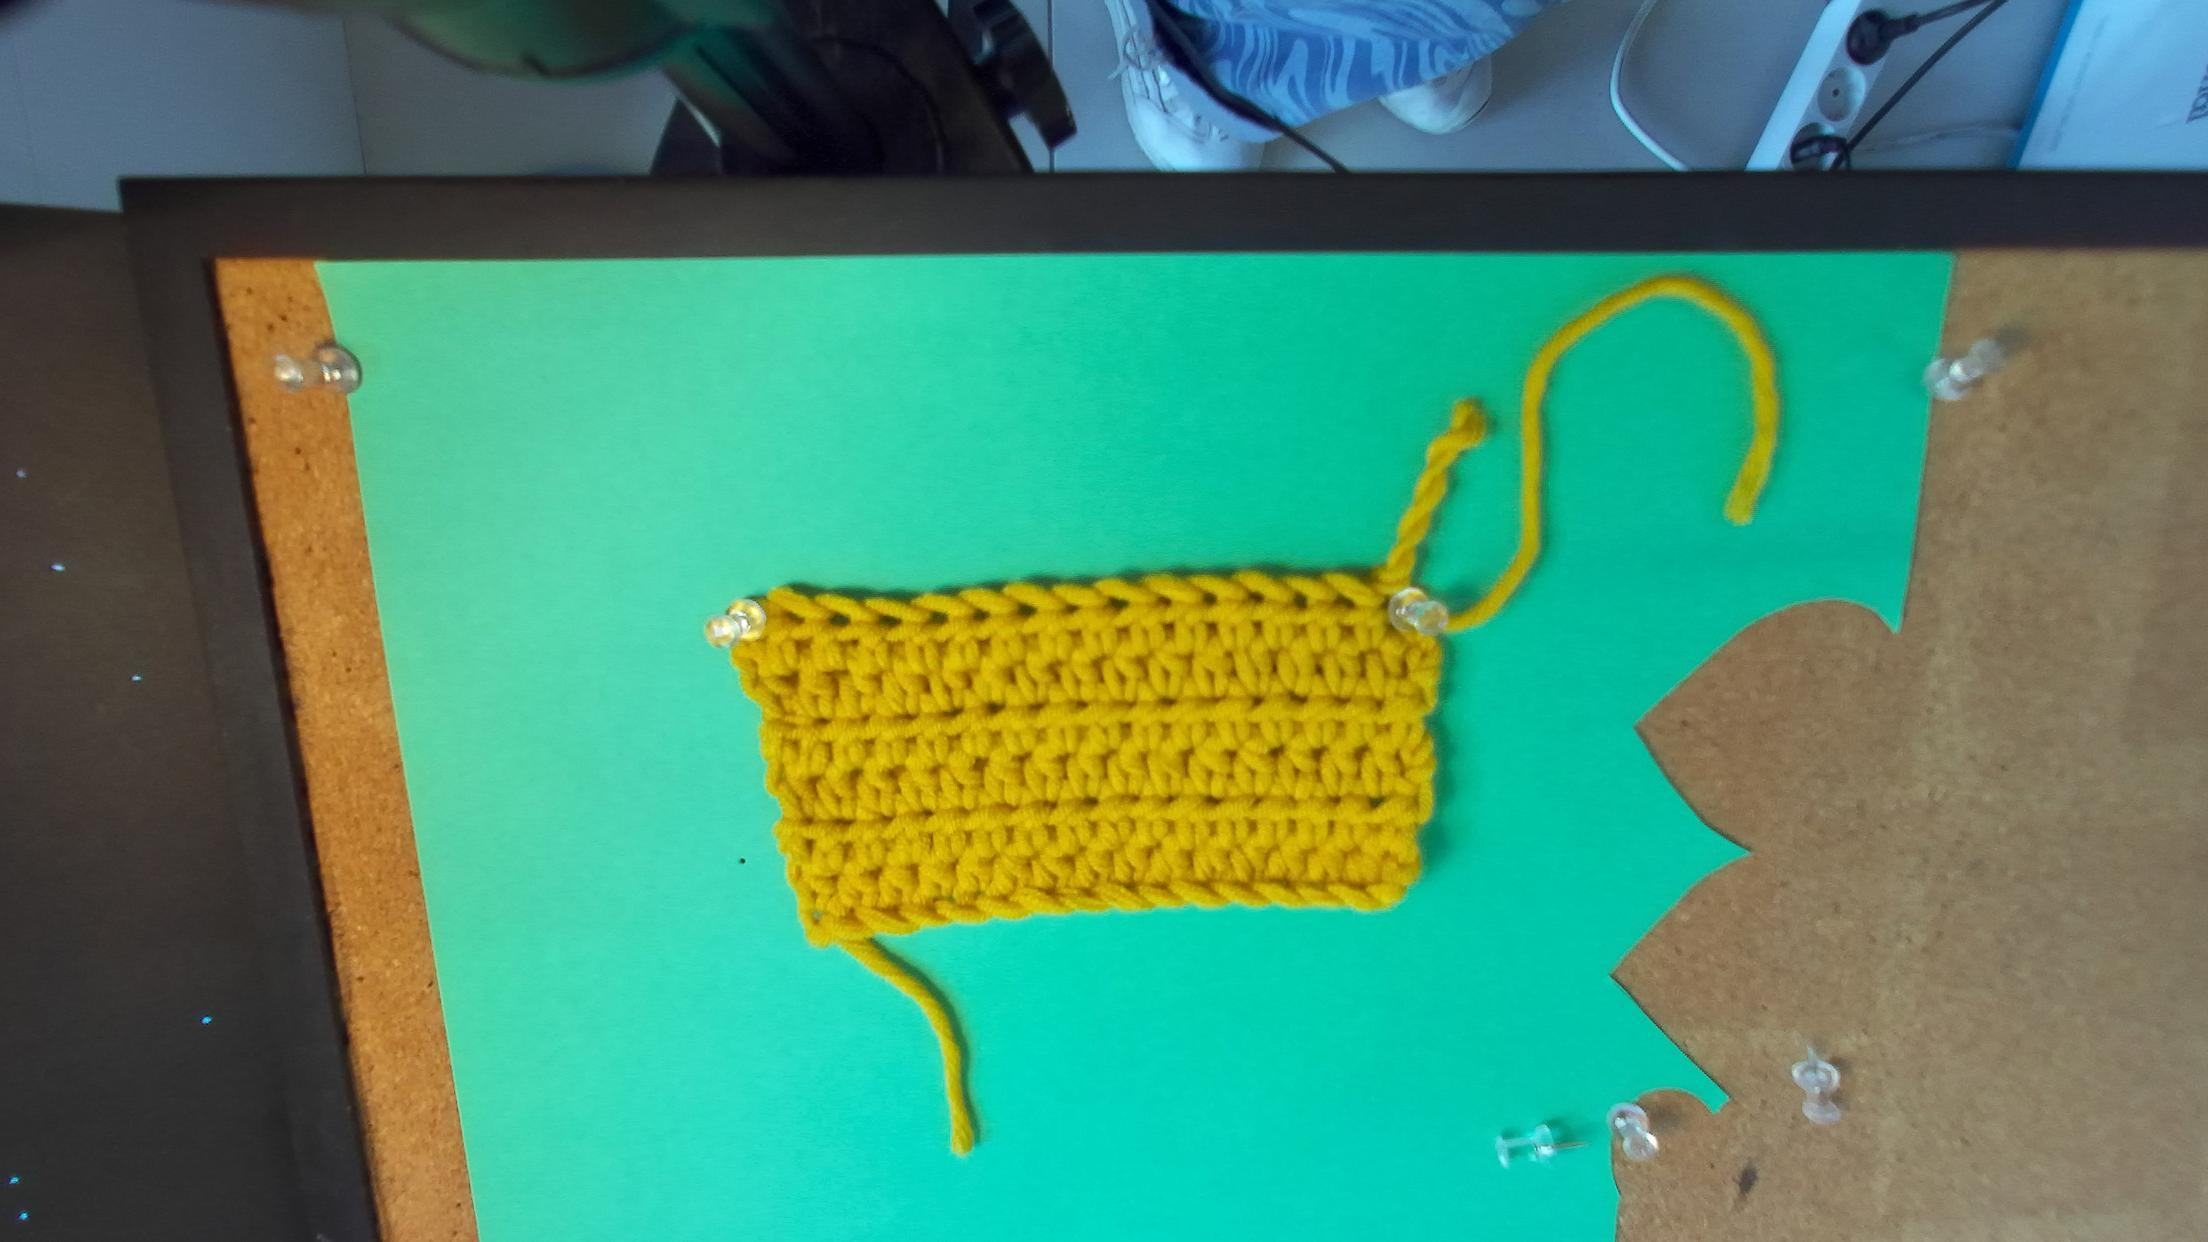hole: (778, 607, 805, 625), (875, 613, 902, 631), (1101, 597, 1130, 614), (1333, 593, 1357, 611), (1015, 602, 1037, 619), (828, 610, 849, 626), (1292, 591, 1310, 610), (1203, 590, 1219, 608), (1248, 588, 1265, 607), (969, 610, 990, 623), (925, 613, 948, 625), (1062, 602, 1081, 614), (1154, 594, 1171, 608)
swatch: (705, 569, 1444, 952)
